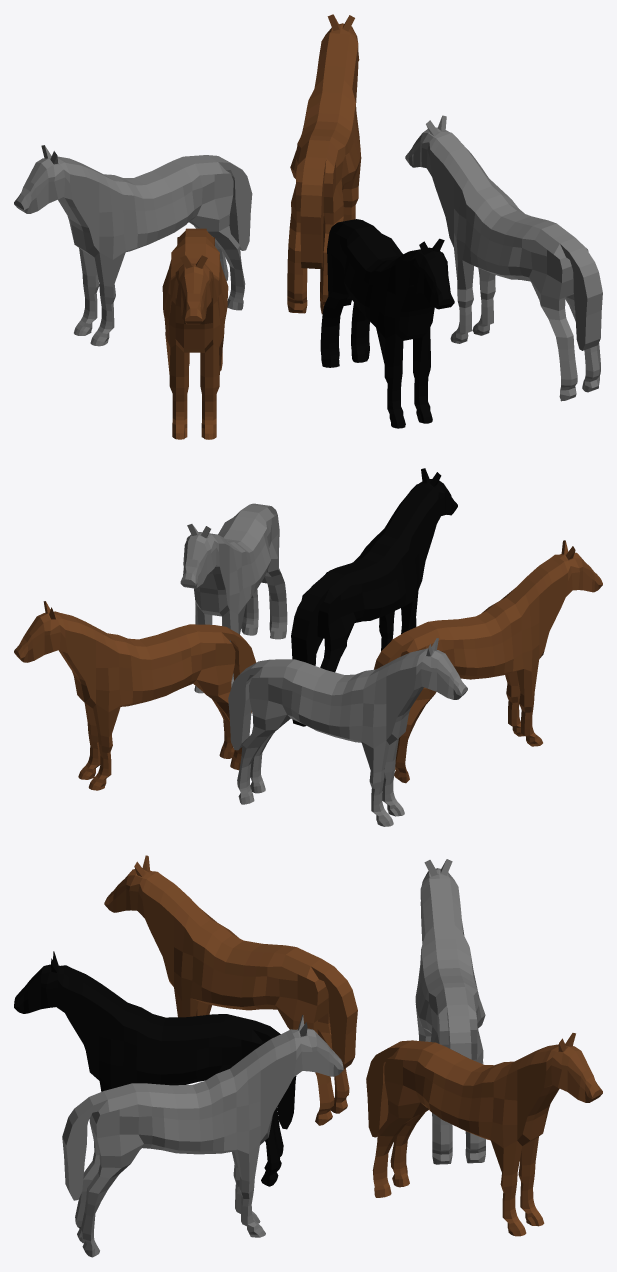
File: Horses.fbx
The picture shows the model from 3 angles, top to bottom: view 1: azimuth 30°, elevation 25°; view 2: azimuth 150°, elevation 25°; view 3: azimuth 270°, elevation 25°; orthographic projection. The views are drawn at different scales.
Visible parts, largest first — view 1: Cube.003, Cube.030, Cube.031, Cube.032, Cube.004; view 2: Cube.030, Cube.032, Cube.004, Cube.031, Cube.003; view 3: Cube.003, Cube.032, Cube.004, Cube.031, Cube.030.
Part boxes in pixels (x1,y1,x2,y2): Cube.003: (405,115,602,401); Cube.030: (14,145,252,346); Cube.031: (320,219,454,428); Cube.032: (287,14,361,314); Cube.004: (162,228,228,439); Cube.030: (228,638,467,826); Cube.032: (14,601,255,790); Cube.004: (374,540,602,783); Cube.031: (291,468,457,726); Cube.003: (180,503,287,693); Cube.003: (62,1015,343,1257); Cube.032: (366,1033,602,1236); Cube.004: (104,855,357,1125); Cube.031: (14,951,296,1186); Cube.030: (415,859,485,1164).
Bounding box in the file's own units: 1117 × 535 × 1355.
